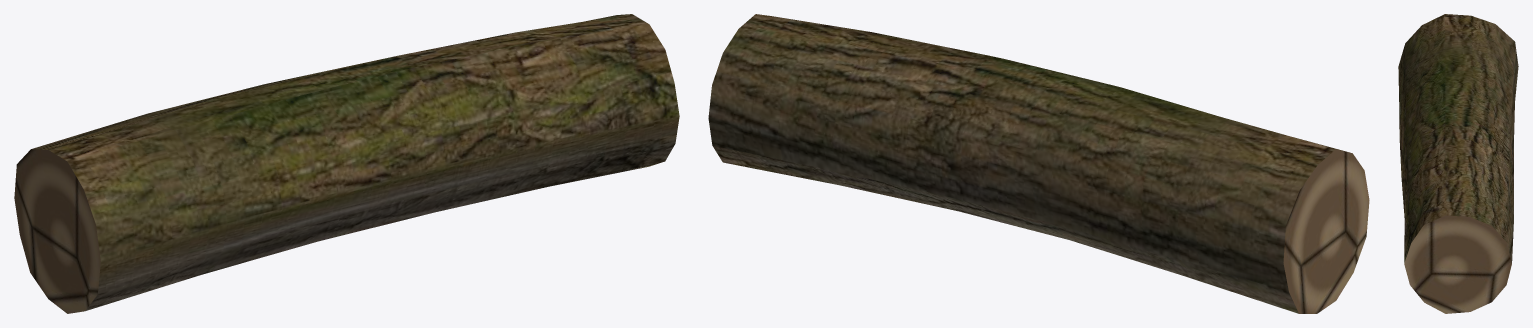
File: firewood.glb
The picture shows the model from 3 angles, left to right: view 1: azimuth 30°, elevation 25°; view 2: azimuth 150°, elevation 25°; view 3: azimuth 270°, elevation 25°; orthographic projection. The views are drawn at different scales.
Visible parts, largest first — view 1: firewood; view 2: firewood; view 3: firewood.
Part boxes in pixels (x1,y1,x2,y2): firewood: (14,14,679,313); firewood: (708,14,1369,313); firewood: (1398,14,1518,313).
Bounding box in the file's own units: 0.55 × 0.1457 × 0.1414.
Materials: 1 (1 with a texture image).
